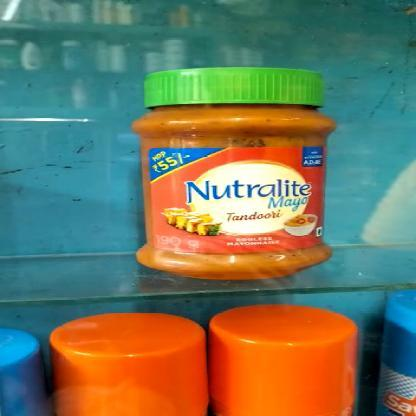Nutralite TANDOORI MAYO 300g-275g-25g-: (131, 66, 337, 282)
